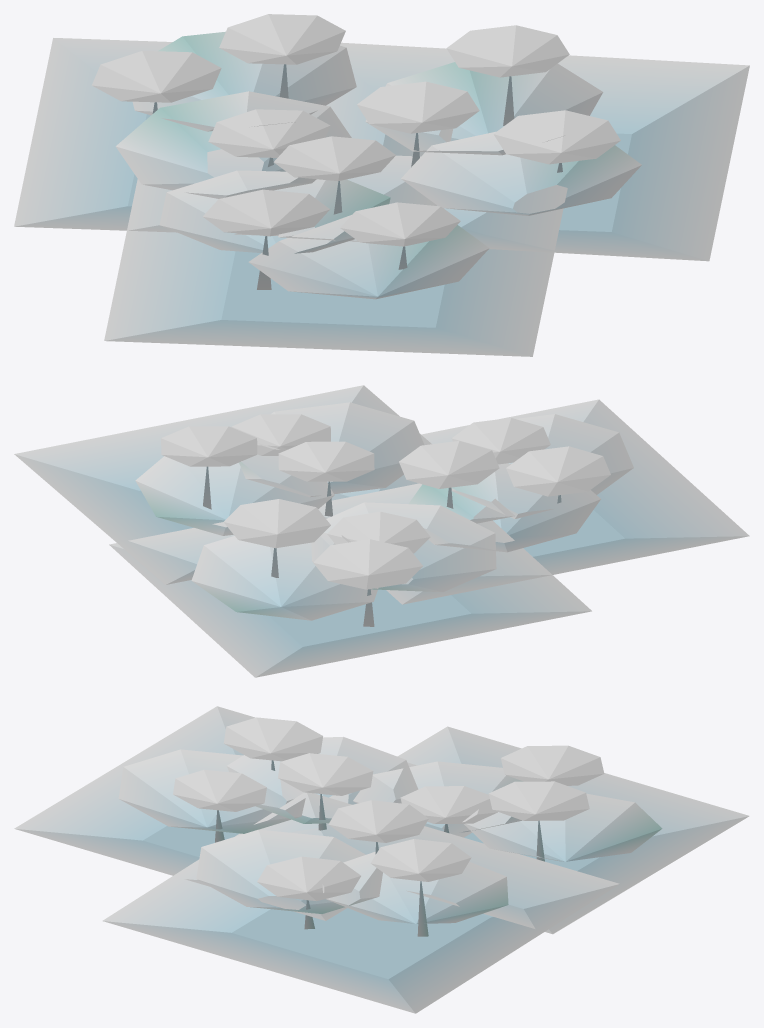
The model's file is flower-carpet.glb.
The picture shows the model from 3 angles, top to bottom: view 1: azimuth 30°, elevation 25°; view 2: azimuth 150°, elevation 25°; view 3: azimuth 270°, elevation 25°; orthographic projection. The views are drawn at different scales.
Parts seen in each view (by area): view 1: flower-carpet; view 2: flower-carpet; view 3: flower-carpet.
Part boxes in pixels (bbox=[...]): flower-carpet: bbox=[14, 14, 749, 356]; flower-carpet: bbox=[14, 385, 749, 677]; flower-carpet: bbox=[14, 706, 749, 1013].
Bounding box in the file's own units: 1.56 × 0.1875 × 1.58.
